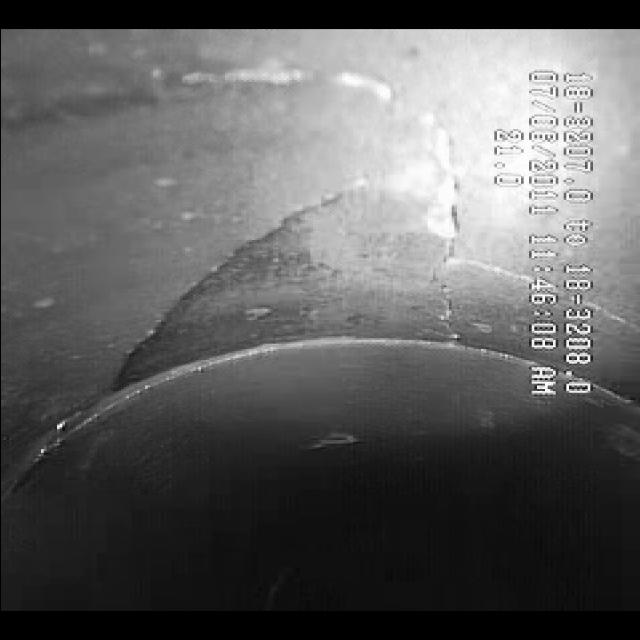Crack: (171, 67, 485, 341)
